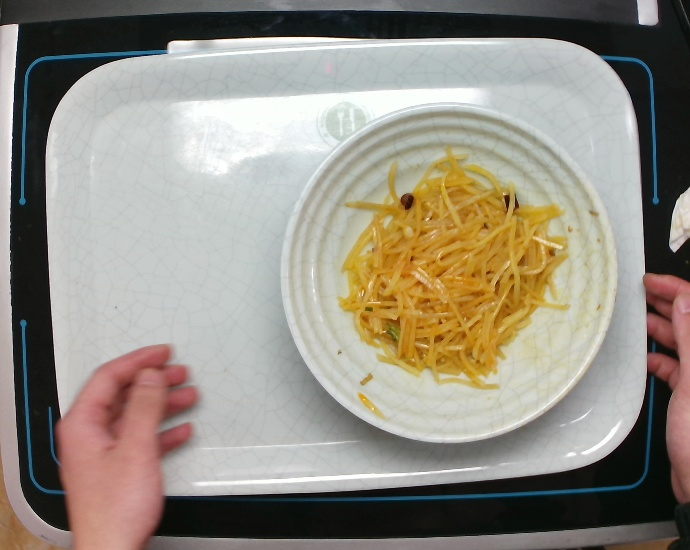JYsf-Da_Tang_Wan: (278, 102, 625, 450)
